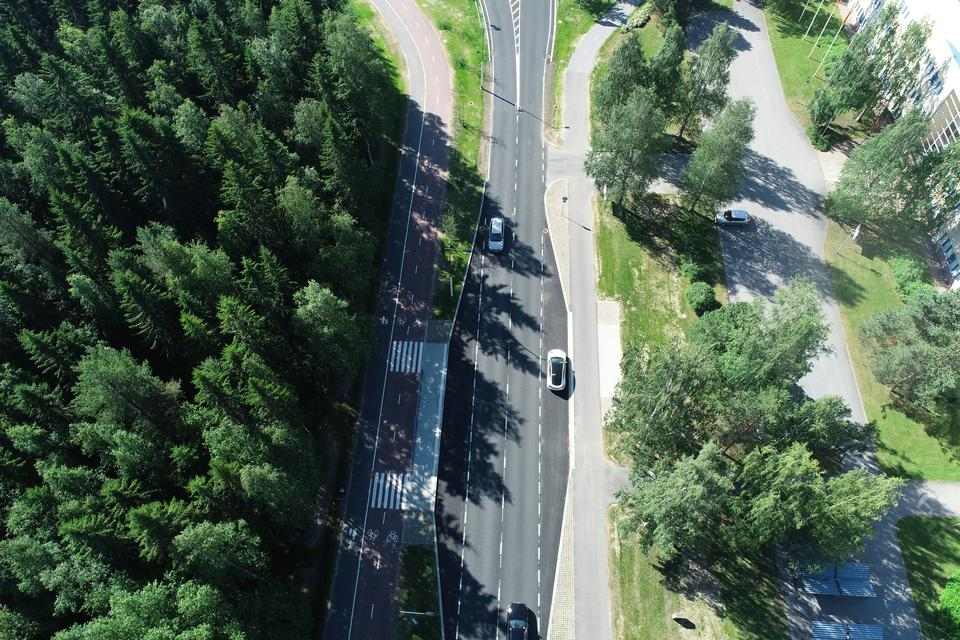intersection: (463, 125, 617, 205)
